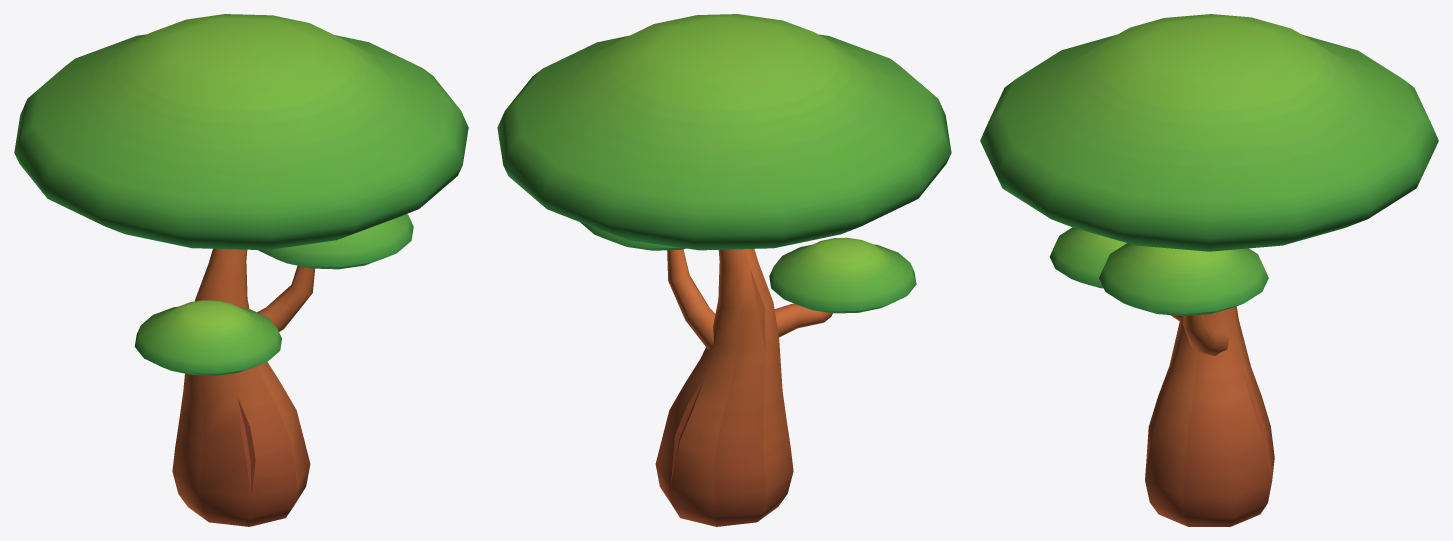
Rendered from Tree_3_A.glb.
3 views of the same model, side by side, from view 1: azimuth 30°, elevation 25°; view 2: azimuth 150°, elevation 25°; view 3: azimuth 270°, elevation 25° (orthographic).
Visible parts, largest first — view 1: Tree_3_A_Color1; view 2: Tree_3_A_Color1; view 3: Tree_3_A_Color1.
Boxes of the visible parts, box(x1,y1,x2,y2) form: Tree_3_A_Color1: box(14, 14, 468, 526); Tree_3_A_Color1: box(497, 14, 951, 526); Tree_3_A_Color1: box(980, 14, 1438, 526).
Size of the model in its own units: 3.09 by 3.51 by 3.09.
1 material, 1 textured.
